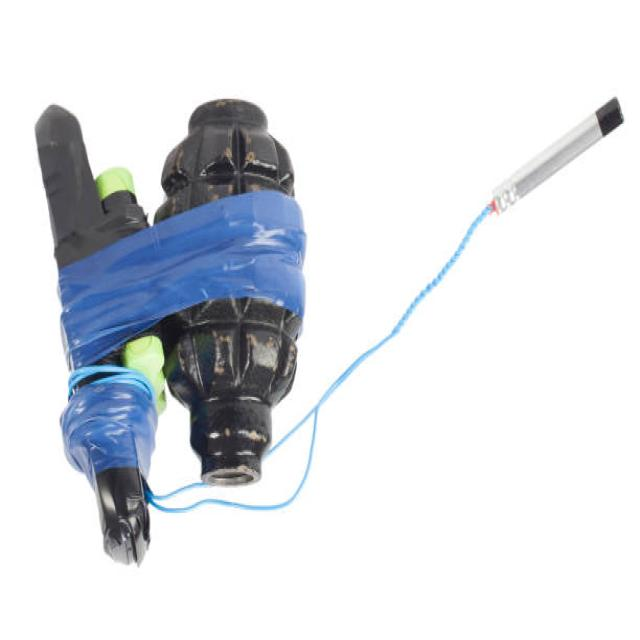grenade: (161, 95, 311, 501)
